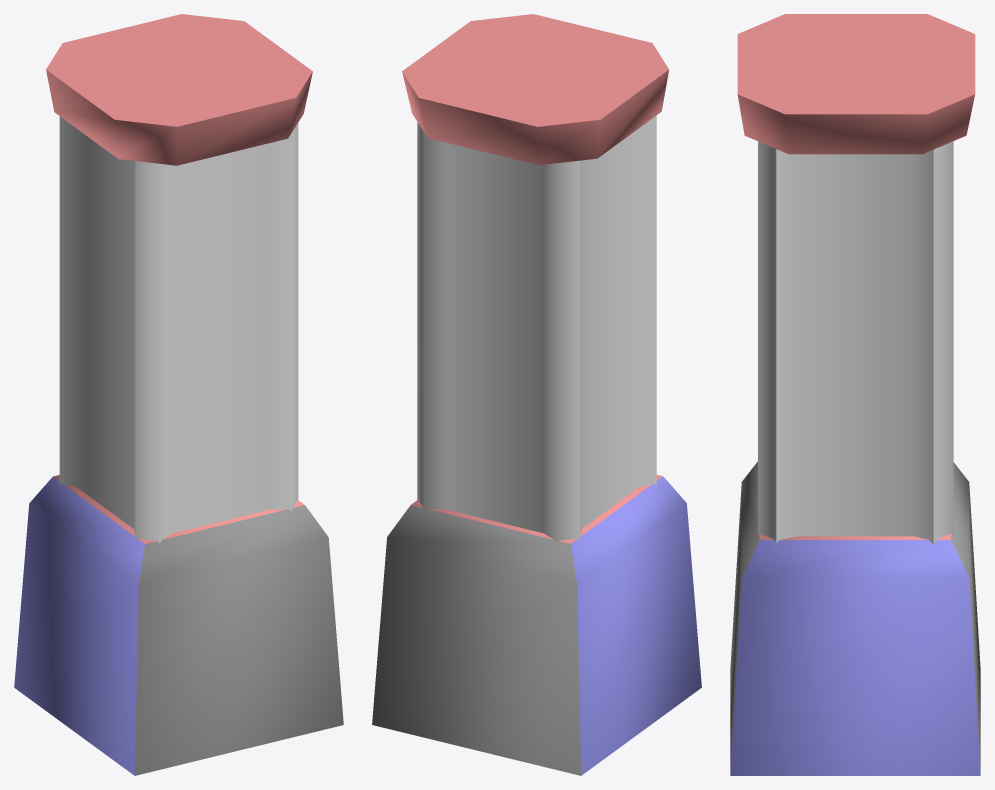
File: skruins_transcept_body02.gltf
The picture shows the model from 3 angles, left to right: view 1: azimuth 30°, elevation 25°; view 2: azimuth 150°, elevation 25°; view 3: azimuth 270°, elevation 25°; orthographic projection. The views are drawn at different scales.
Parts seen in each view (by area): view 1: skruins_transcept_body02; view 2: skruins_transcept_body02; view 3: skruins_transcept_body02.
Part boxes in pixels (<box>): skruins_transcept_body02: <box>14,14,343,775</box>; skruins_transcept_body02: <box>372,14,701,775</box>; skruins_transcept_body02: <box>730,14,980,775</box>.
Size of the model in its own units: 0.5718 by 1.66 by 0.5718.
